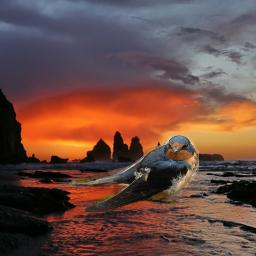Swallow: (59, 134, 199, 212)
